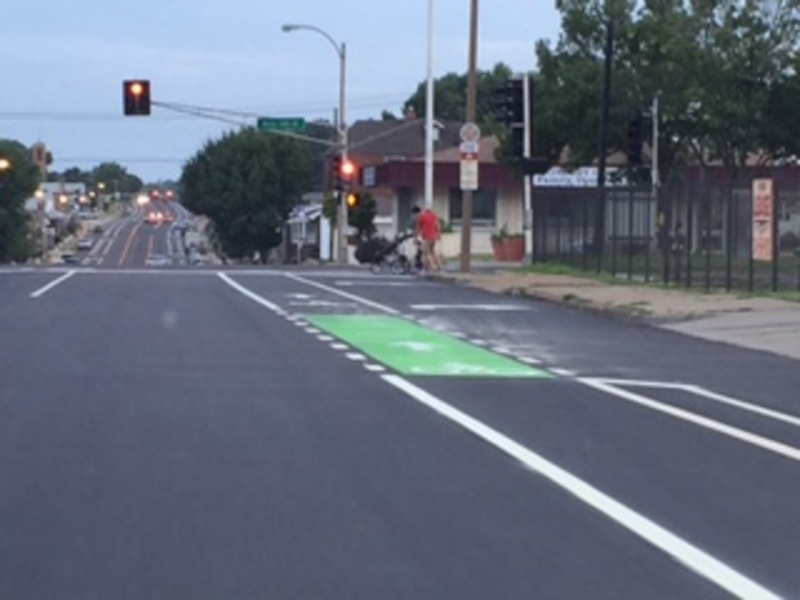red_light: (123, 75, 151, 118)
